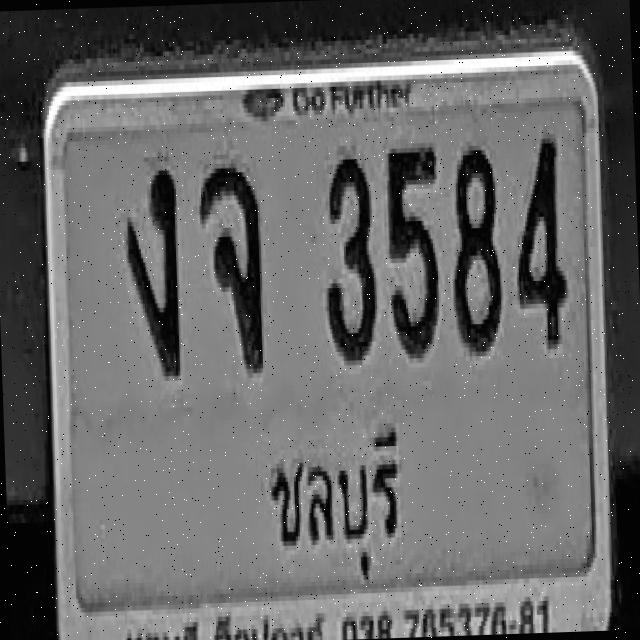16NgorNgu: (123, 165, 182, 377)
17ChorChan: (198, 162, 264, 370)
3: (320, 154, 378, 361)
4: (510, 134, 568, 346)
5: (384, 140, 442, 356)
8: (448, 144, 502, 352)
Chonburi: (257, 413, 408, 603)
